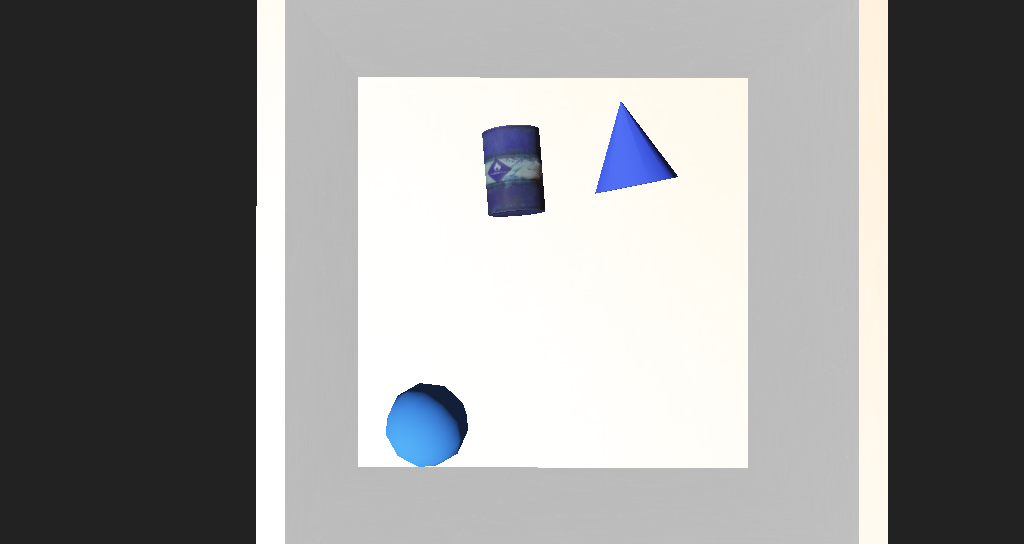cone: (445, 188, 499, 241)
cylinder: (515, 162, 616, 229)
sphere: (381, 332, 441, 375)
